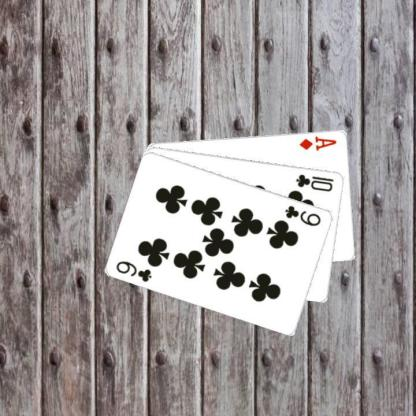10C: (294, 171, 335, 192)
9C: (282, 203, 322, 228), (114, 258, 154, 283)
AD: (297, 134, 337, 152)
